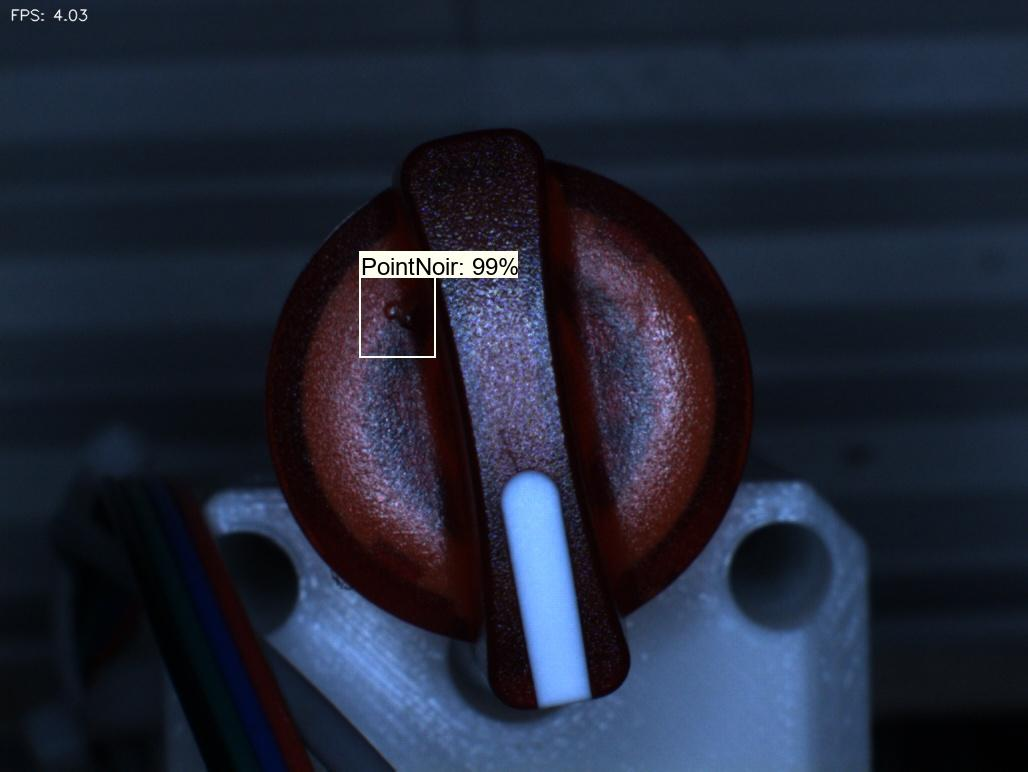Choc: (364, 280, 442, 369)
